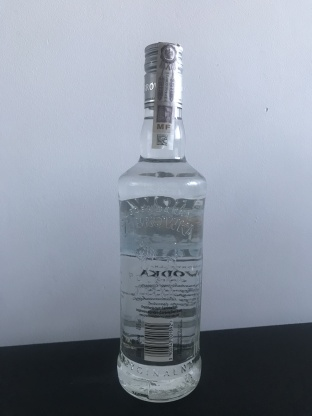nakretka: (141, 39, 185, 112)
